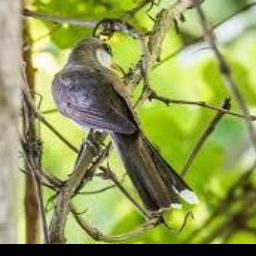Cuckoo: (51, 37, 201, 215)
